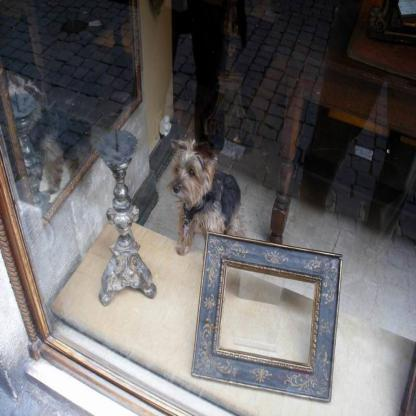Picture-frame: (189, 238, 344, 400)
